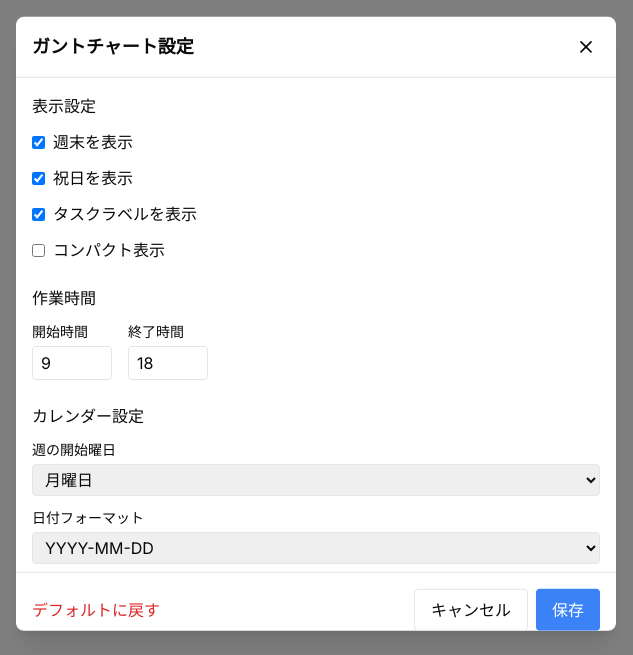
GanttViewSettings › 作業時間設定 › 無効な作業時間は設定できない
The width and height of the screenshot is (633, 655).
Replace the text in the number field labelled "開始時間" with "20" at [72, 363], box [32, 346, 112, 380]
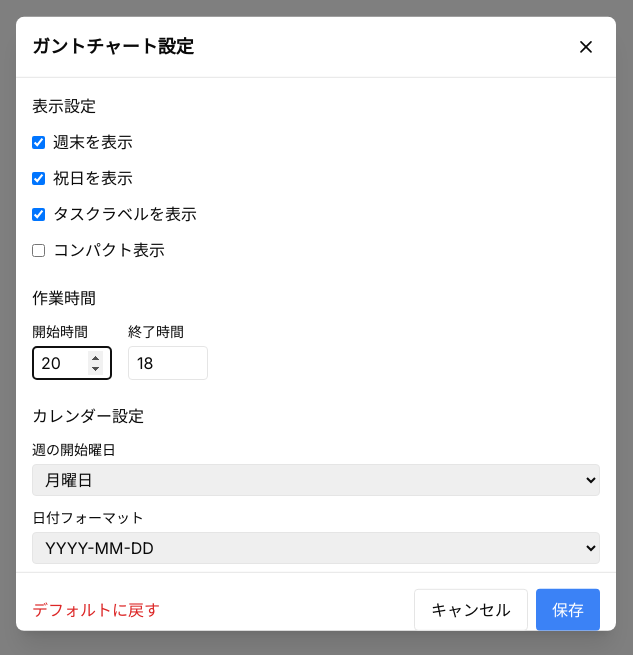
Replace the text in the number field labelled "終了時間" with "8" at [168, 363], box [128, 346, 208, 380]
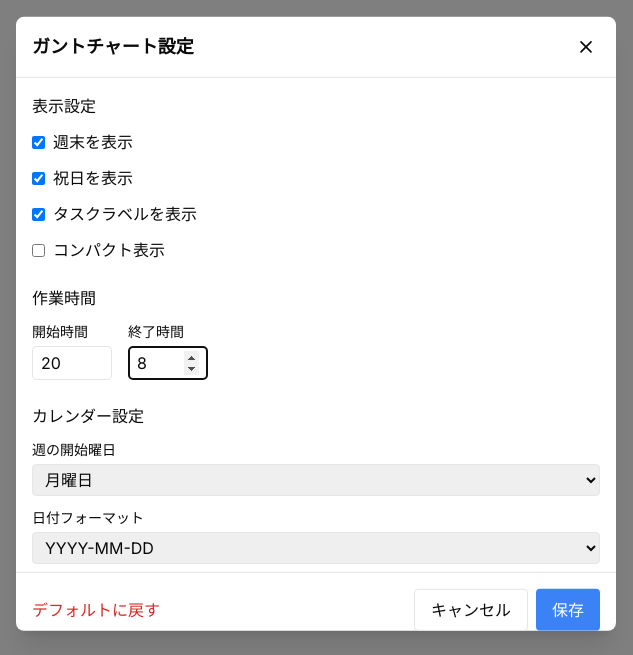
Click the button "保存" at [568, 610], box [536, 589, 600, 631]
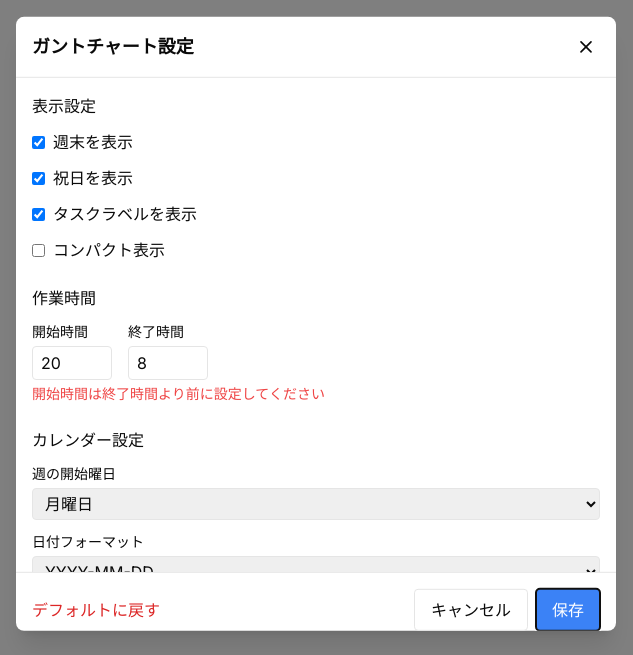
Check: the text "開始時間は終了時間より前に設定してください" is shown, box [32, 385, 325, 402]
